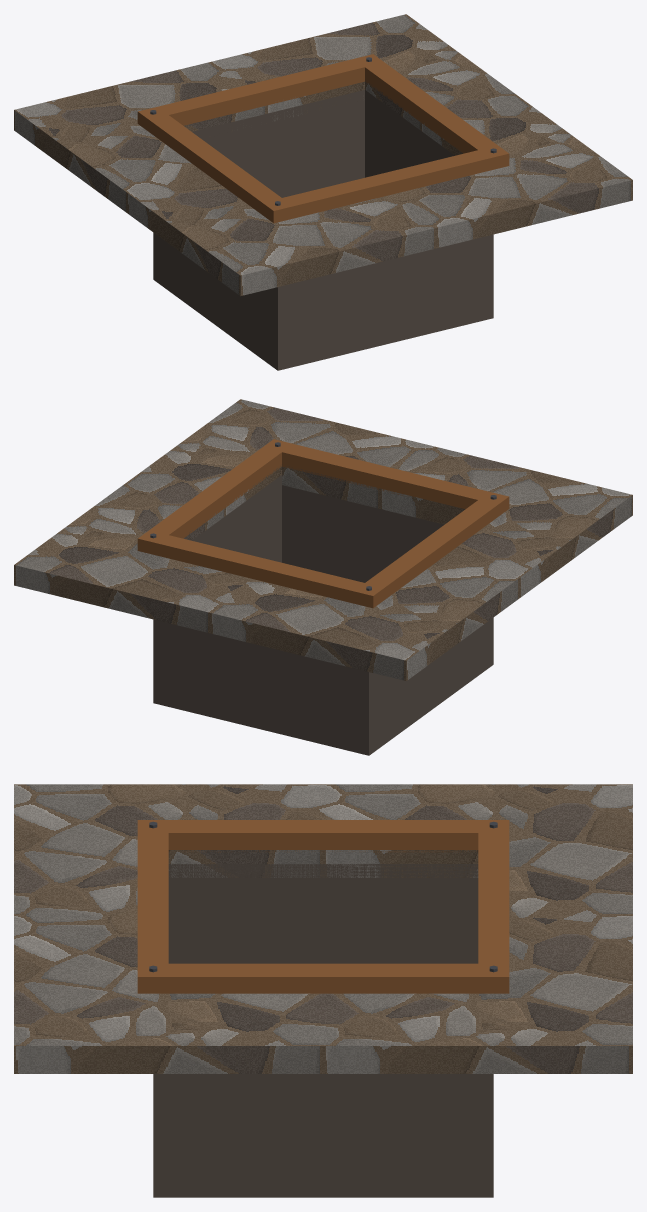
File: mine_floor_shaft.glb
3 views of the same model, one above another, from view 1: azimuth 30°, elevation 25°; view 2: azimuth 150°, elevation 25°; view 3: azimuth 270°, elevation 25° (orthographic). The views are drawn at different scales.
Parts seen in each view (by area): view 1: mine_floor_shaft; view 2: mine_floor_shaft; view 3: mine_floor_shaft.
Boxes of the visible parts, <box> form: mine_floor_shaft: <box>14,14,632,370</box>; mine_floor_shaft: <box>14,399,632,755</box>; mine_floor_shaft: <box>14,784,632,1197</box>.
Size of the model in its own units: 4 by 1.64 by 4.
5 materials, 1 textured.
